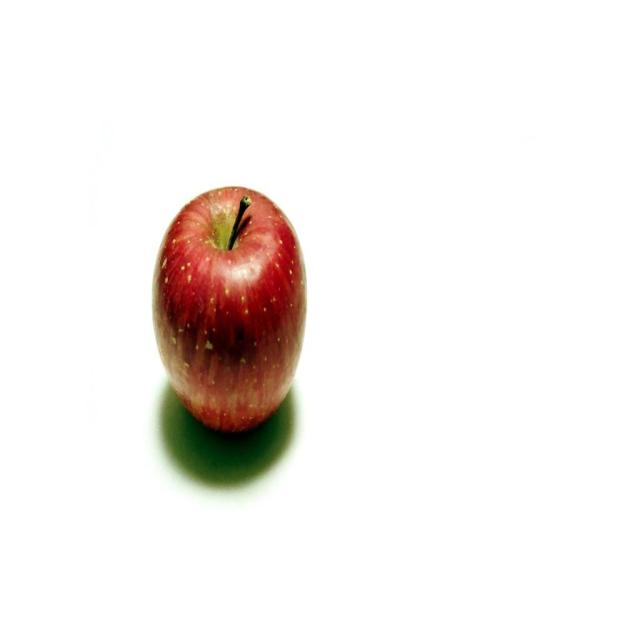Healty Apple: (151, 180, 306, 432)
